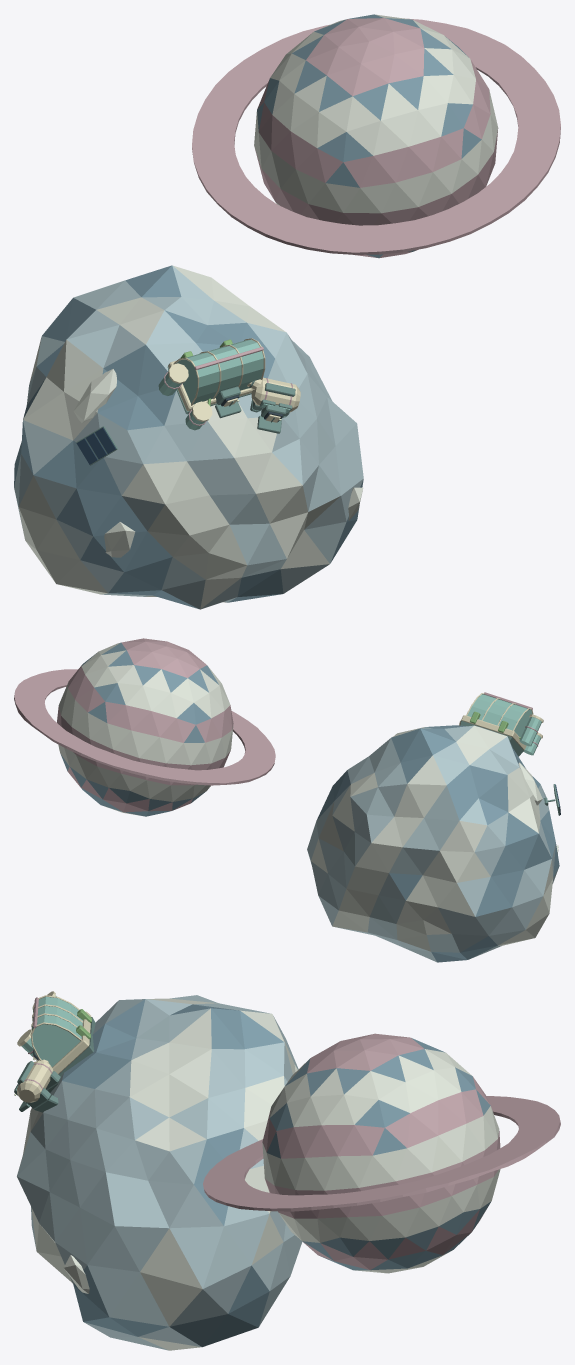
Rendered from outer.glb.
3 views of the same model, one above another, from view 1: azimuth 30°, elevation 25°; view 2: azimuth 150°, elevation 25°; view 3: azimuth 270°, elevation 25° (orthographic). The views are drawn at different scales.
Parts seen in each view (by area): view 1: S5_outer • modeled surfaces; view 2: S5_outer • modeled surfaces; view 3: S5_outer • modeled surfaces.
Part boxes in pixels (x1,y1,x2,y2): S5_outer • modeled surfaces: (14,14,560,609); S5_outer • modeled surfaces: (14,638,560,962); S5_outer • modeled surfaces: (14,991,560,1350).
Bounding box in the file's own units: 2.48 × 1.63 × 1.96.
